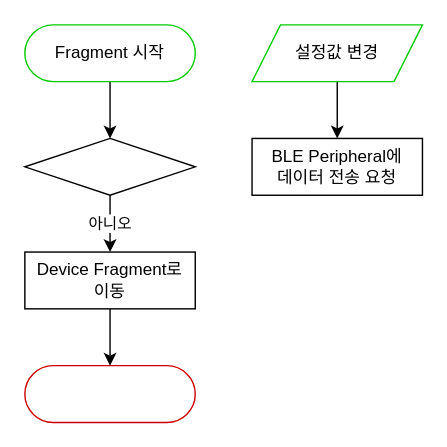
This 447x447 diagram has some shape labels left out. The box of each missing label's shape, as (x1, y1, x2, y2) in pixels:
Fragment 종료: (23, 364, 195, 422)
디바이스 연결 여부: (23, 137, 195, 195)
